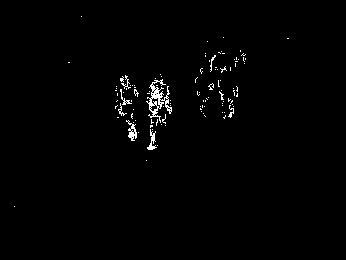person: (144, 71, 175, 150), (116, 72, 140, 143)
